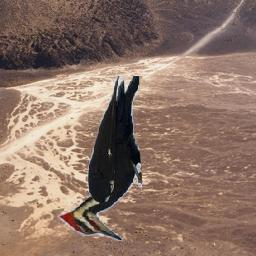Woodpecker: (56, 77, 143, 242)
